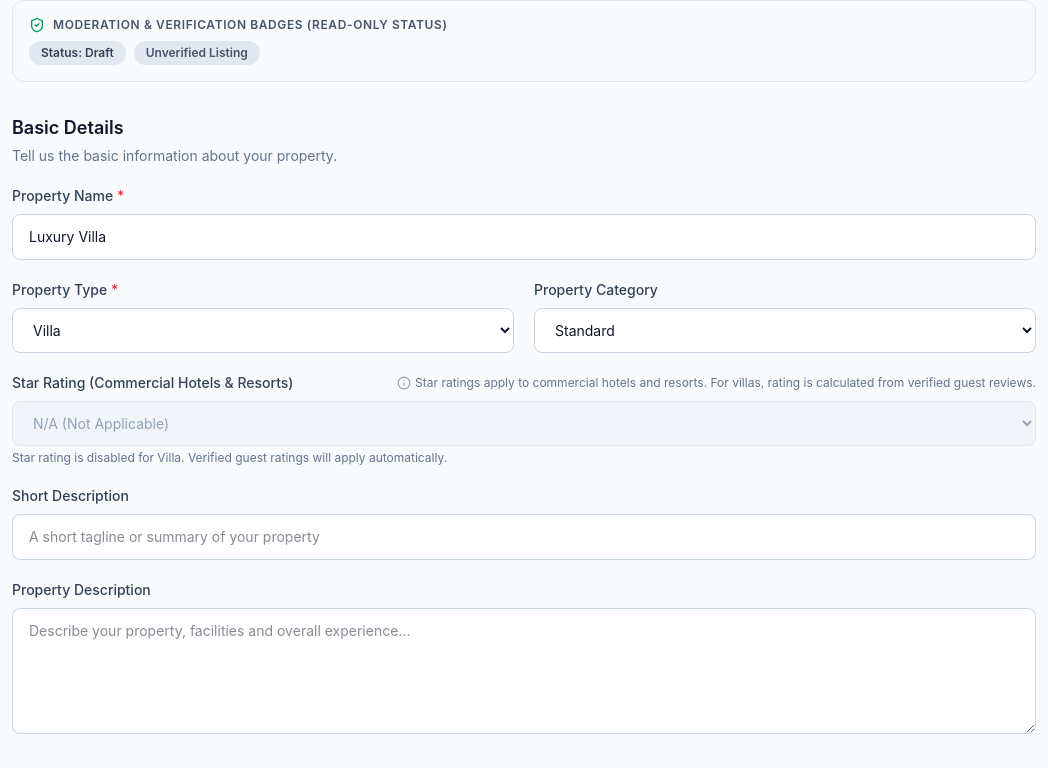
Test: Property Type Matrix & State Reset Comprehensive Suite › Property Type State Reset Transitions › re-enables star rating input when changing property type from Villa back to Hotel
This screenshot has width=1048, height=768.
Select "Hotel" in the dropdown labelled "Property Type *" at (263, 330), box [12,308,514,353]
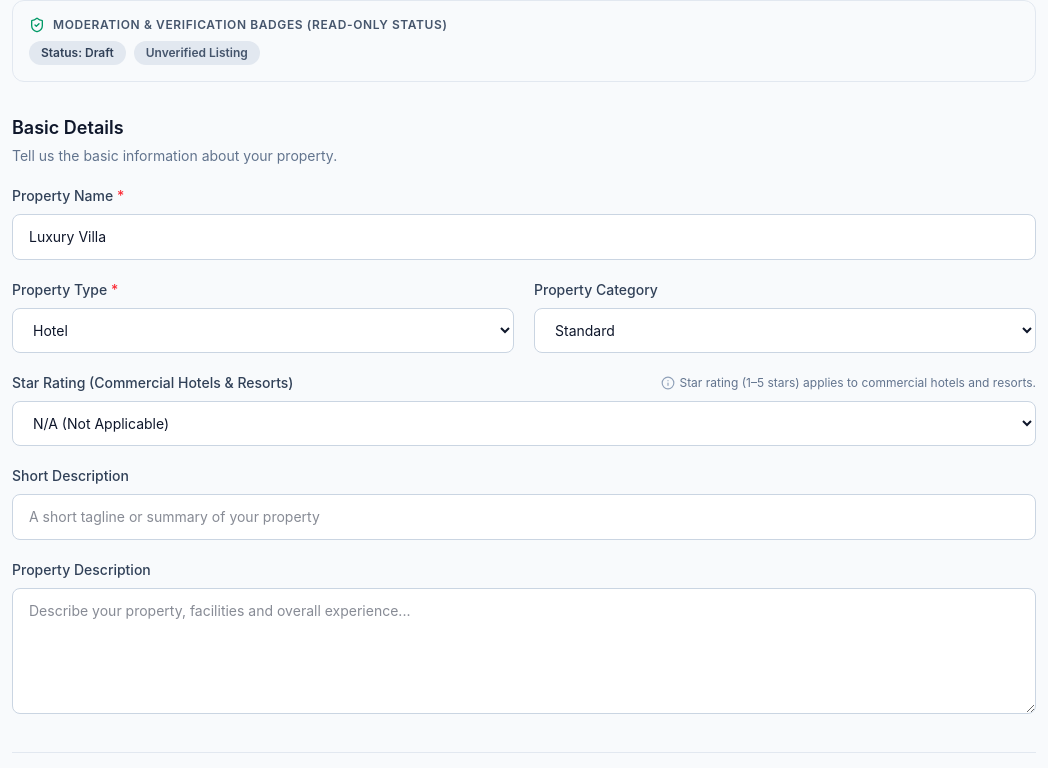
Check: the dropdown labelled "Star Rating" is enabled, box [12,401,1036,446]
